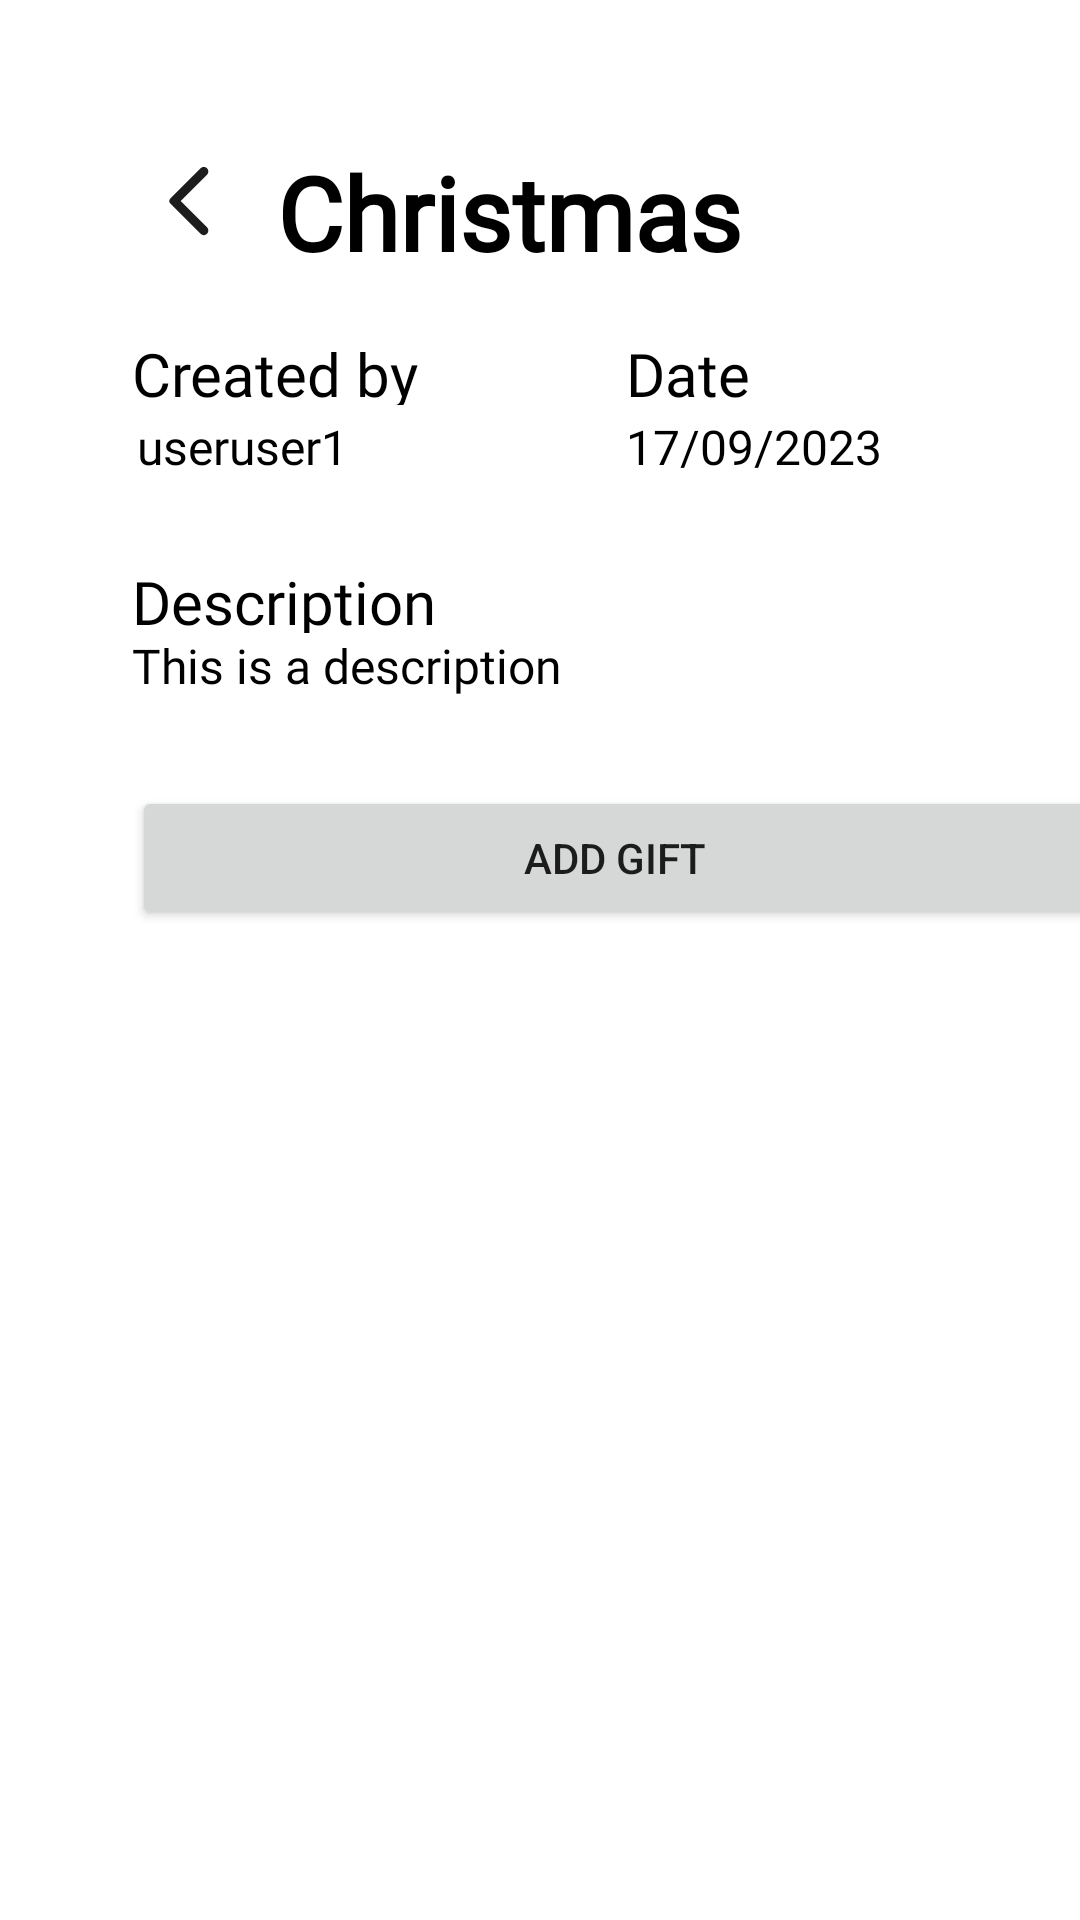

Where icons sit on this 1080x1920 app screen, as [x1,y1,x2,y2]:
back: [169,167,209,236]
